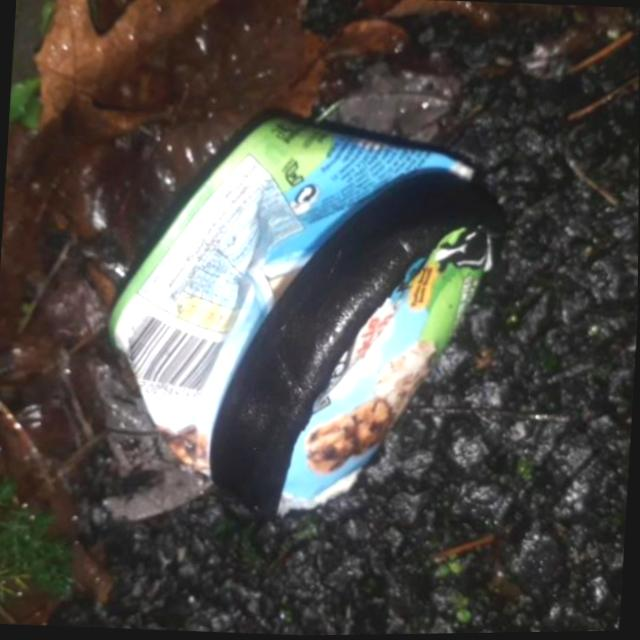Paper: (88, 97, 518, 539)
